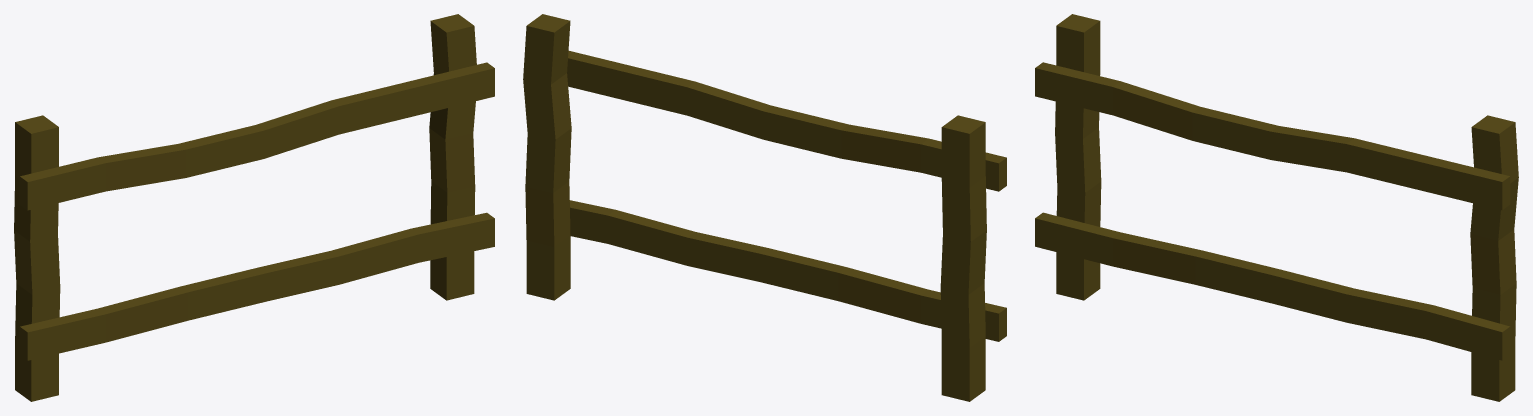
The picture shows the model from 3 angles, left to right: view 1: azimuth 30°, elevation 25°; view 2: azimuth 150°, elevation 25°; view 3: azimuth 330°, elevation 25°; orthographic projection.
Parts seen in each view (by area): view 1: Fence 3; view 2: Fence 3; view 3: Fence 3.
Boxes of the visible parts, box(x1,y1,x2,y2) form: Fence 3: box(14, 14, 494, 401); Fence 3: box(523, 14, 1006, 401); Fence 3: box(1035, 14, 1518, 401).
Size of what is drawn, in the model's own units: 636 by 349 by 59.82.
Materials: 1 (1 with a texture image).
